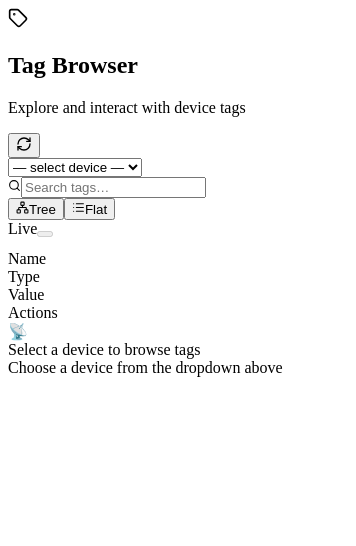
Test: TagBrowserView › prompts for a device, then shows its tag tree, stats and formatted values
Expected: the heading "Tag Browser" is shown, [8,52,138,78]
Expected: the text "Select a device to browse tags" is shown, [8,341,200,358]
Select "Line1_PLC" in the dropdown named "Device" at (75, 167), box [8,158,142,177]
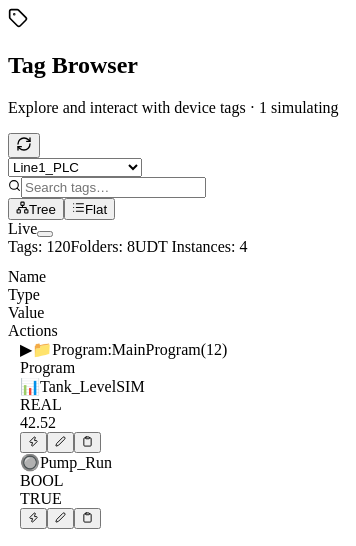
Now the text "Program:MainProgram" is shown, box [52,341,201,358]
Now the text "42.52" is shown, box [20,414,56,431]
Now the text "TRUE" is shown, box [20,490,62,507]
